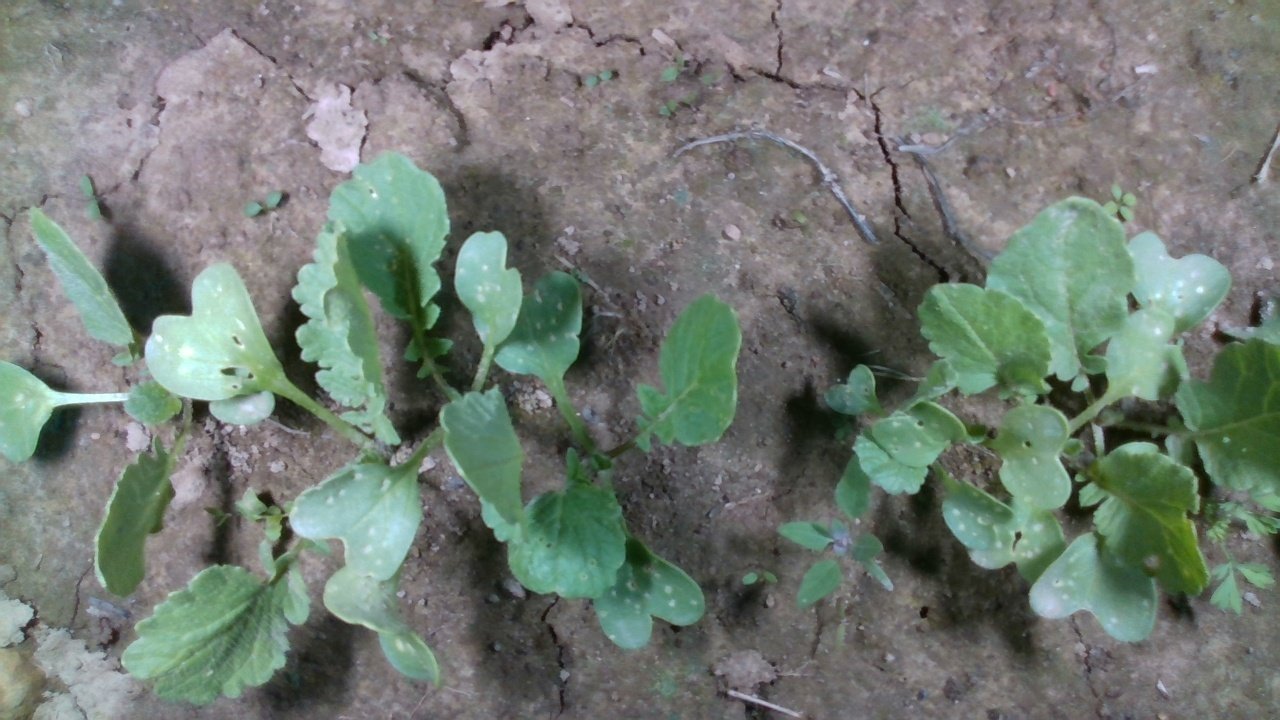weed: (241, 188, 284, 219), (78, 172, 102, 223), (739, 566, 780, 587), (584, 68, 613, 86)
